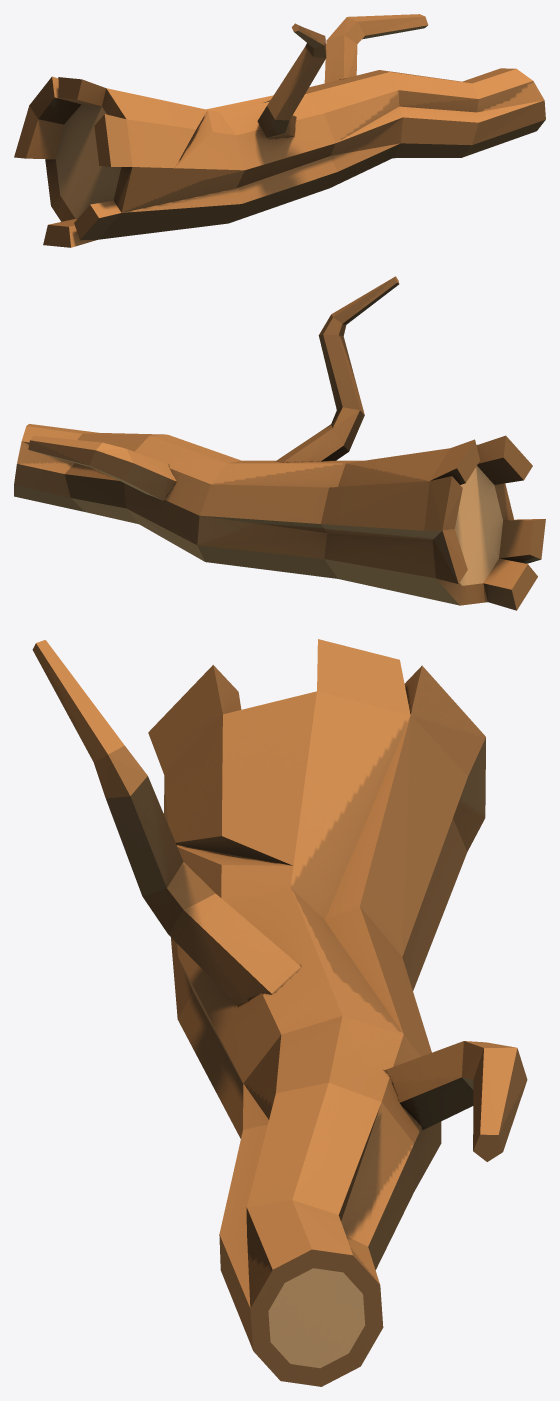
3 renders of one model, top to bottom at view 1: azimuth 30°, elevation 25°; view 2: azimuth 150°, elevation 25°; view 3: azimuth 270°, elevation 25°, orthographic. The views are drawn at different scales.
Visible parts, largest first — view 1: log; view 2: log; view 3: log.
Boxes of the visible parts, x1,y1,x2,y2 form: log: (14,14,545,247); log: (14,276,545,610); log: (32,639,527,1386).
Size of the model in its own units: 3.12 by 1.47 by 1.37.
1 material, 1 textured.
